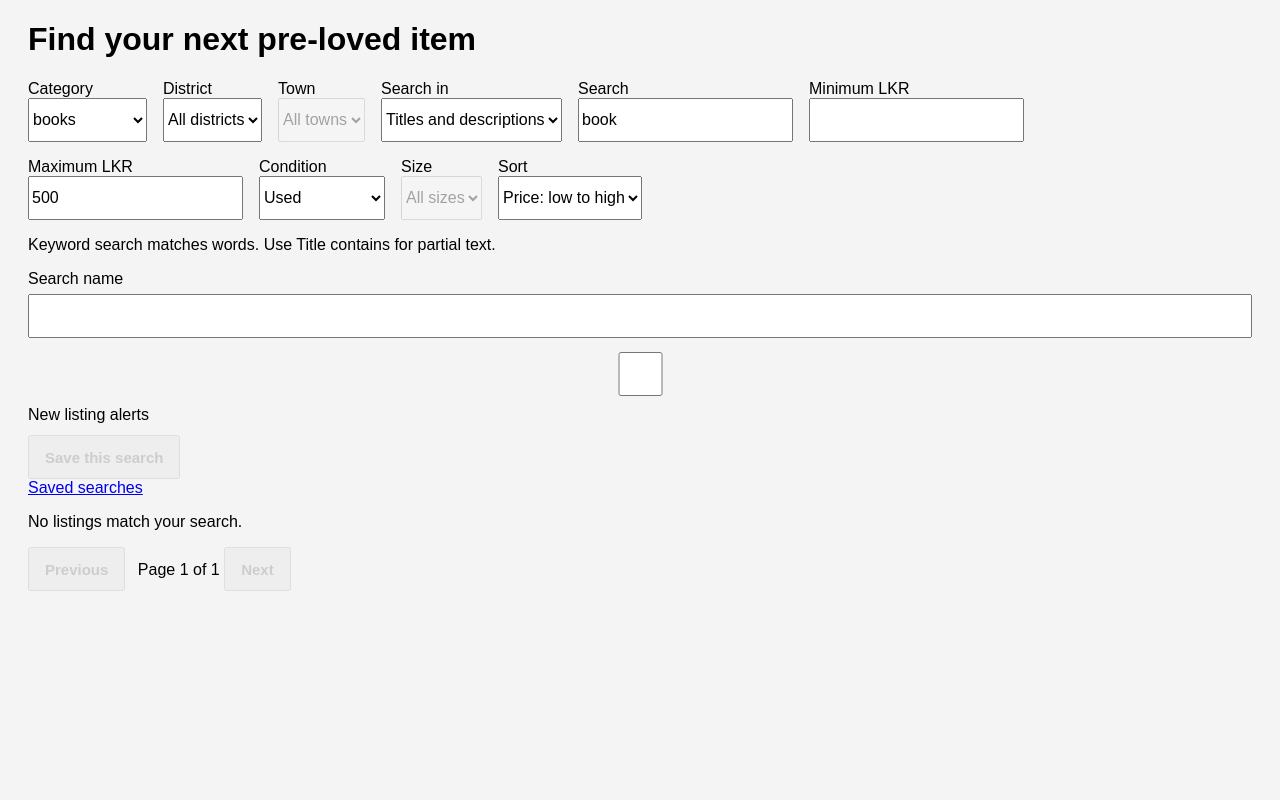
Test: save captures only supported filters, omits pagination and preserves them across a network retry
Check: the text "No listings match your search." is shown, box [28, 513, 242, 530]
Type "Affordable books" into the field labelled "Search name". click: coordinates (640, 316)
box: [28, 294, 1252, 338]
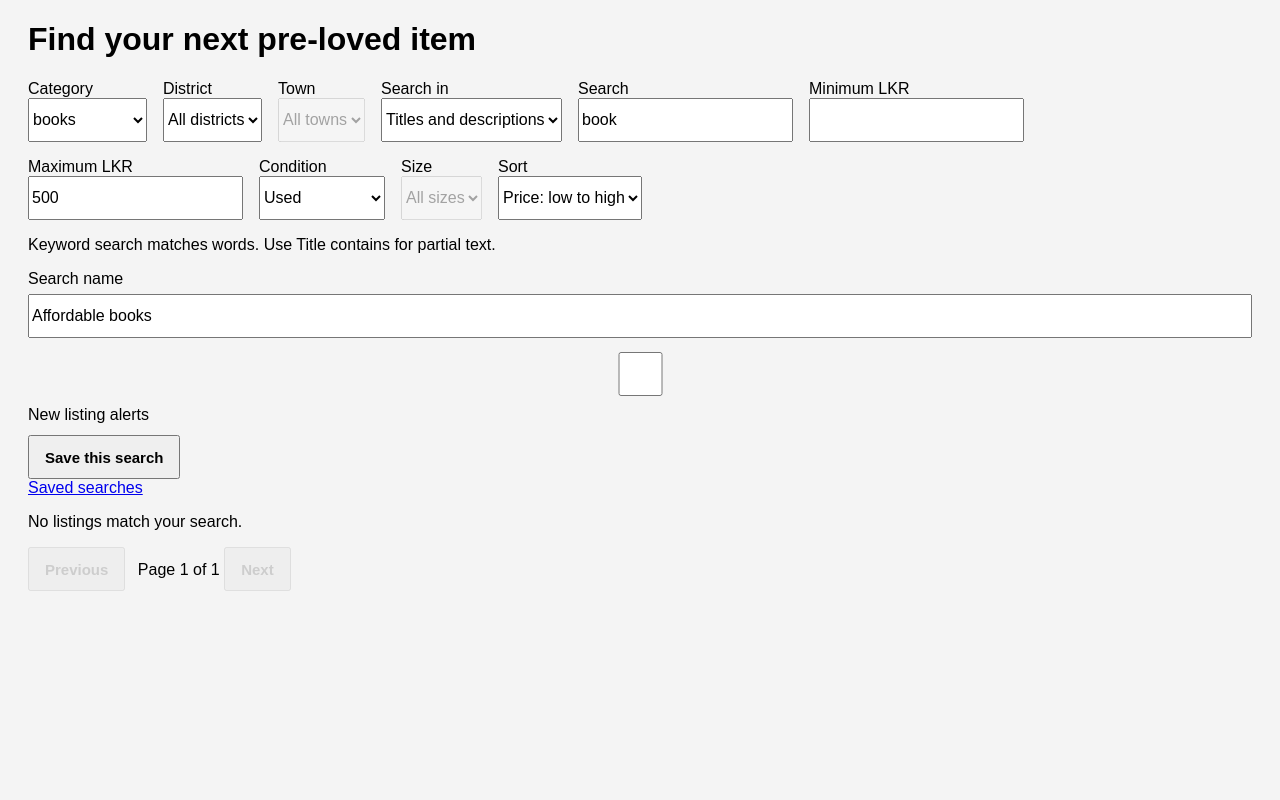
Click the button "Save this search". click: coordinates (104, 457)
box: [28, 435, 180, 479]
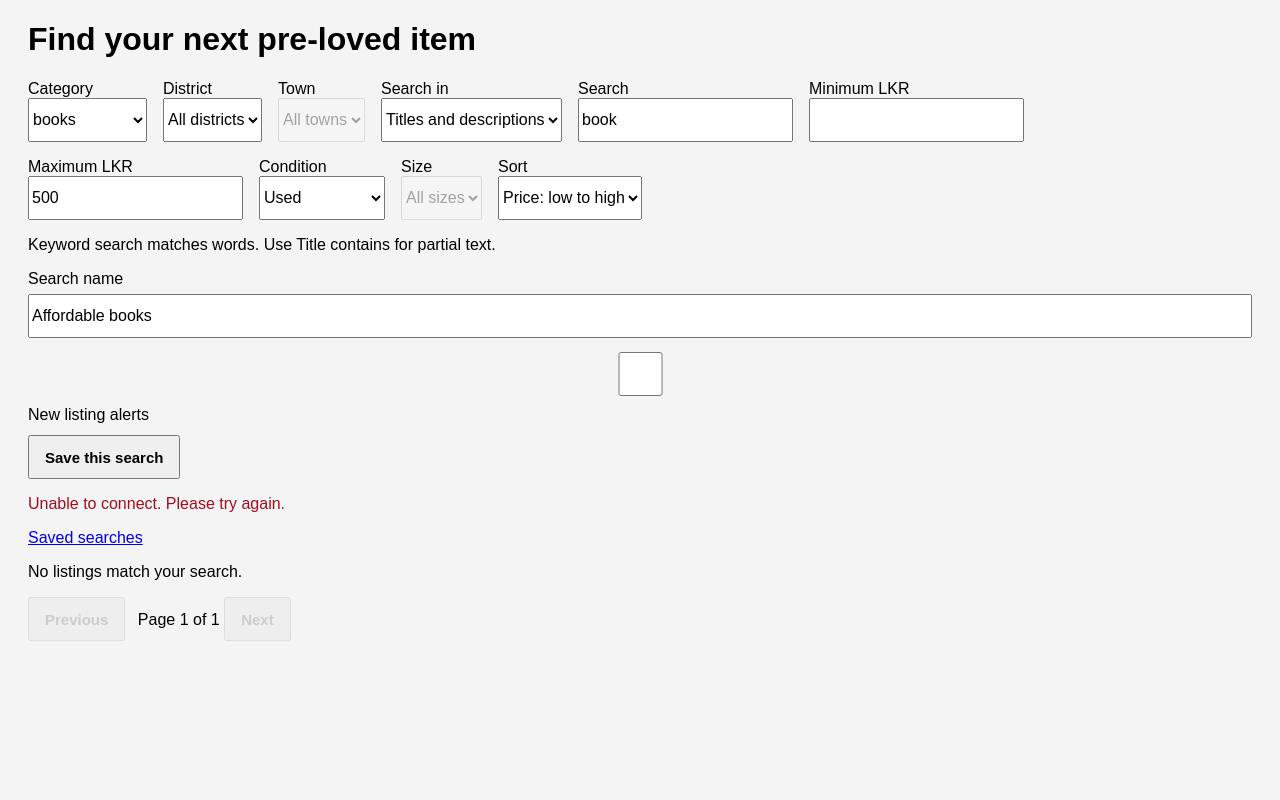
Check: the message "Unable to connect. Please try again." is shown, box [28, 495, 285, 512]
Click the button "Save this search". click: coordinates (104, 457)
box: [28, 435, 180, 479]
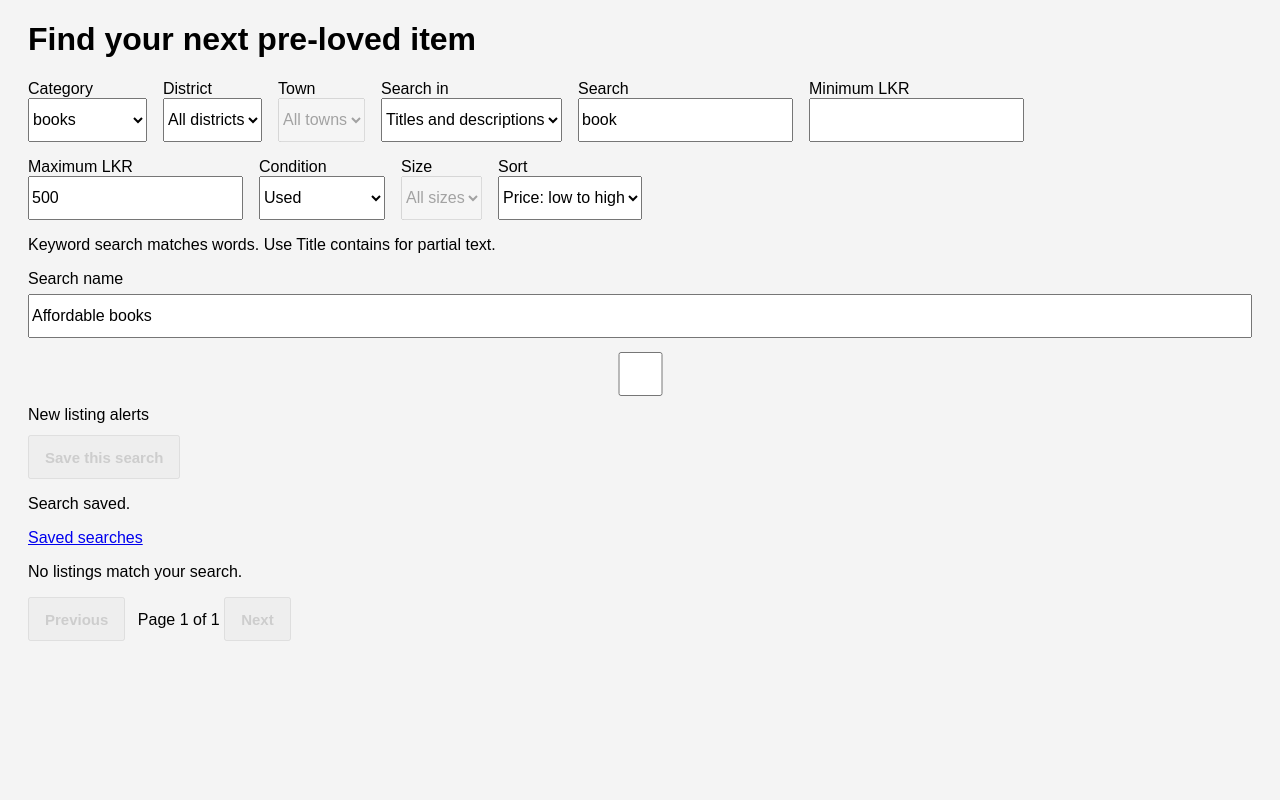
Check: the text "Search saved." is shown, box [28, 495, 130, 512]
